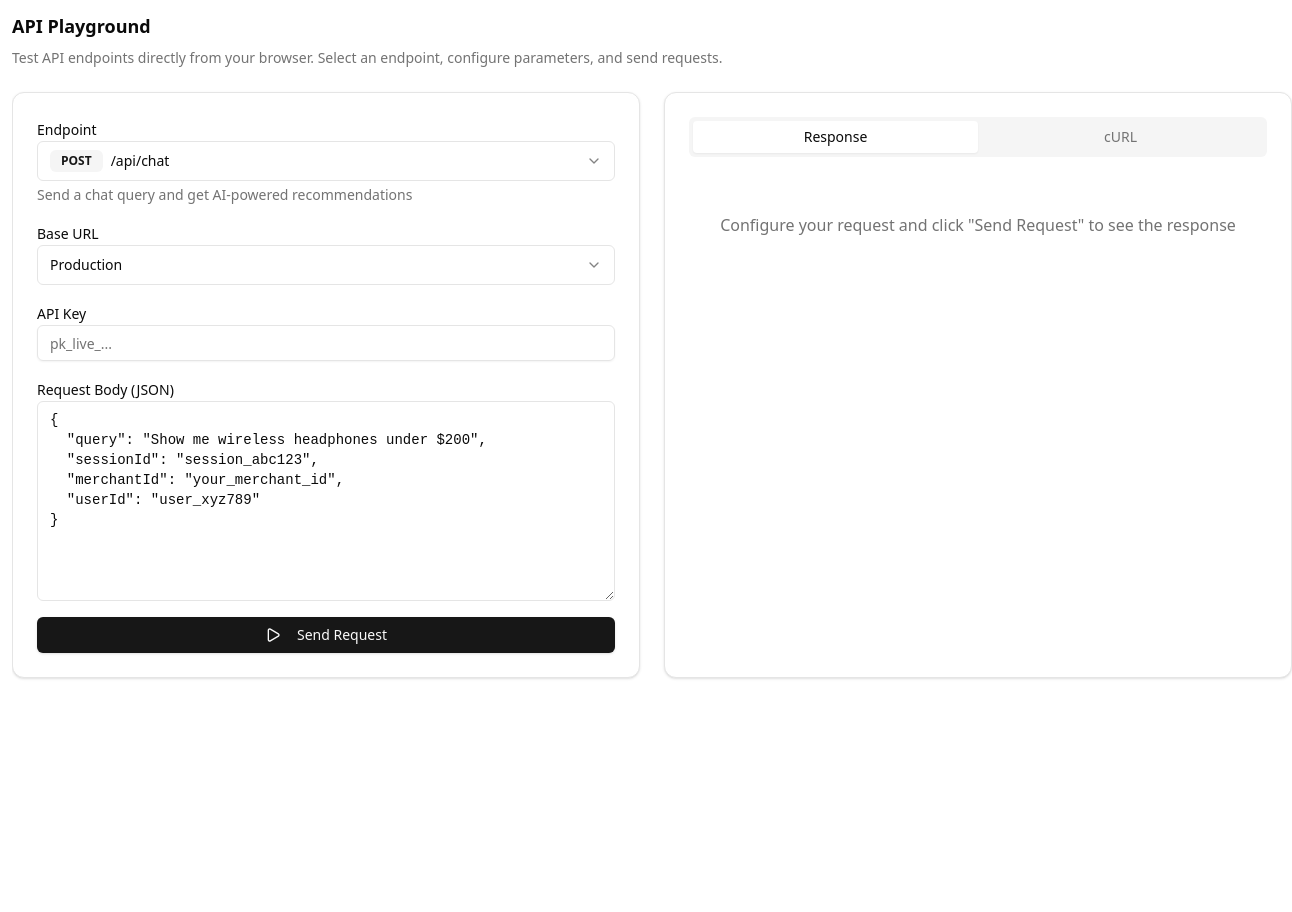
Scenario: ApiPlayground › validates JSON in request body
// Enter invalid JSON
Replace the text in the text box labelled "Request Body (JSON)" with "invalid json" at [326, 501], box top-left (37, 401), bottom-right (615, 601)
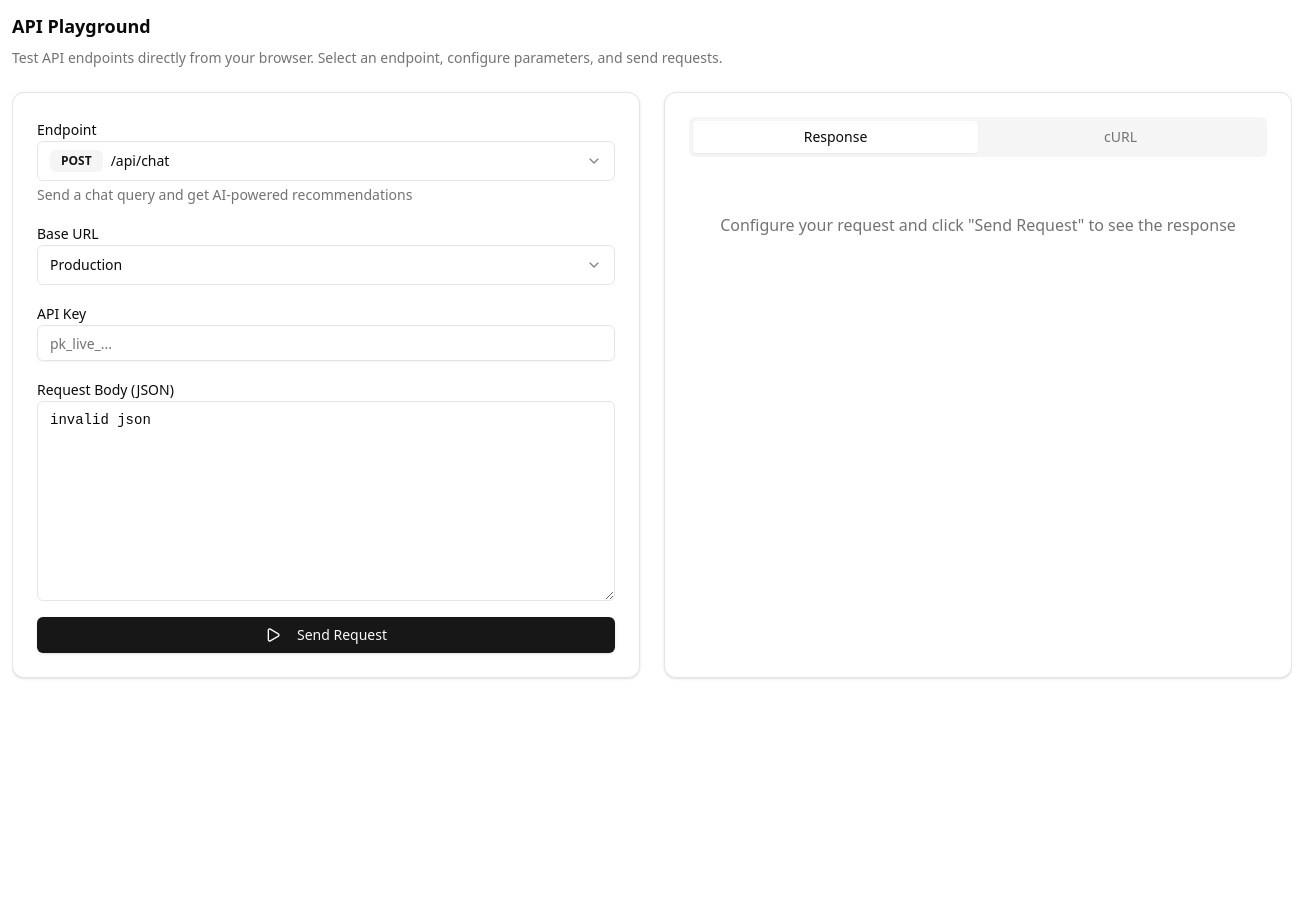
// Click send request
Click the button "Send Request" at [326, 635], box top-left (37, 617), bottom-right (615, 653)
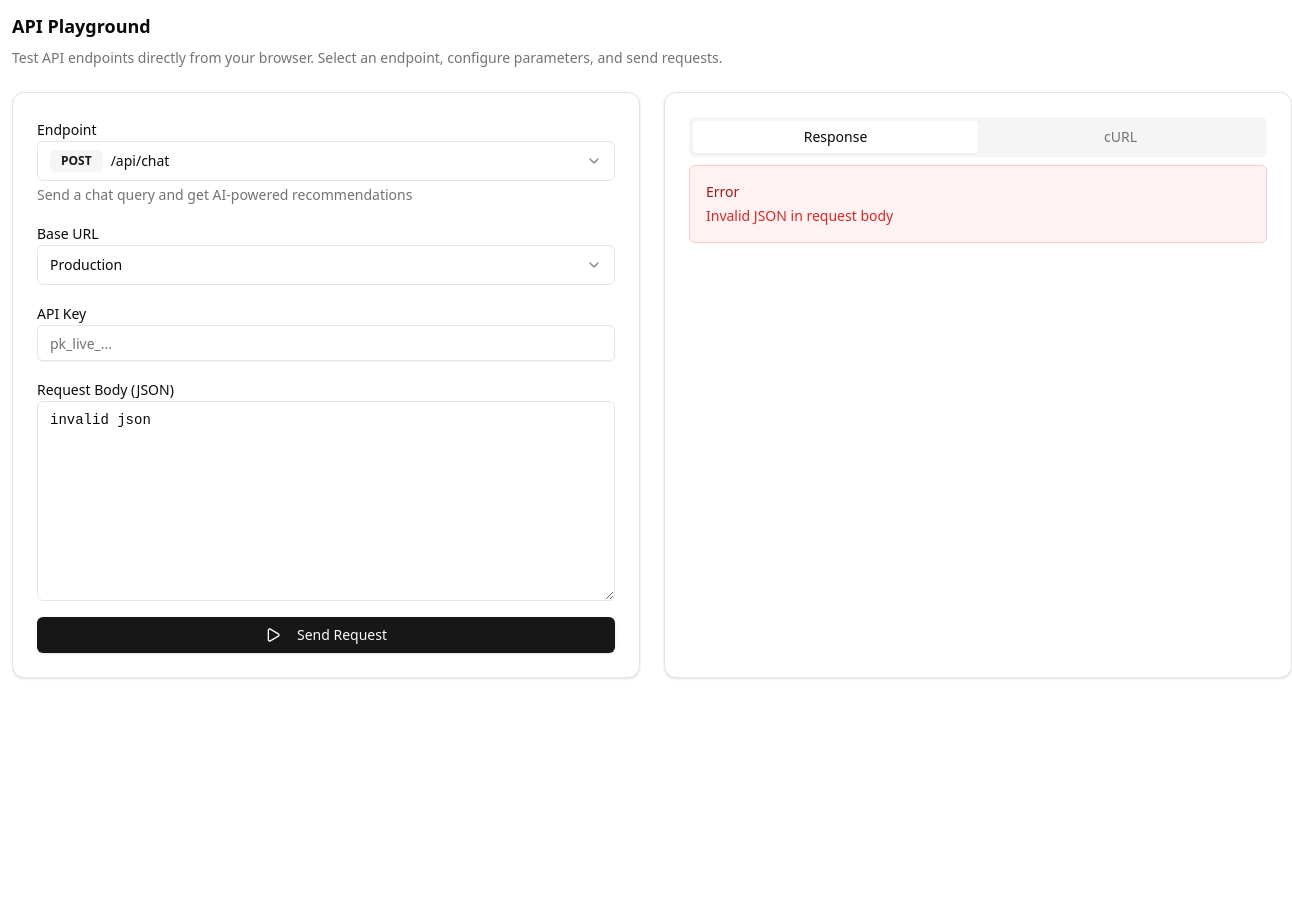
Now the text "Invalid JSON in request body" is shown, box top-left (706, 206), bottom-right (893, 225)
